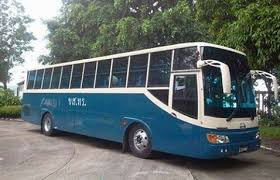bus: (20, 41, 262, 160)
